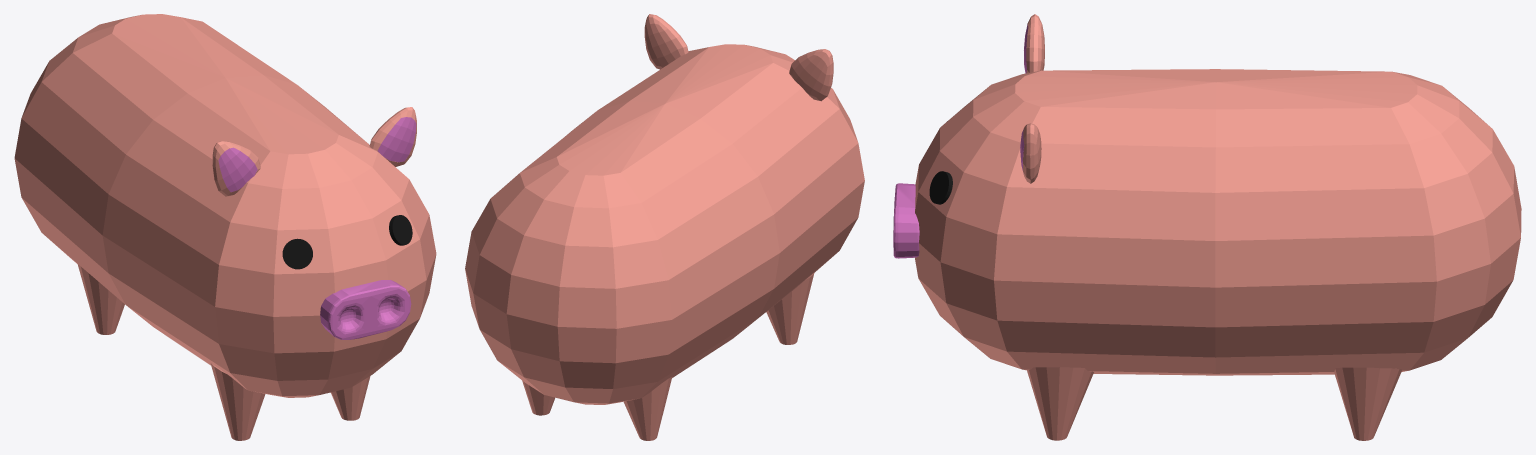
Rendered from Pig.glb.
3 renders of one model, left to right at view 1: azimuth 30°, elevation 25°; view 2: azimuth 150°, elevation 25°; view 3: azimuth 270°, elevation 25°, orthographic. The views are drawn at different scales.
Parts seen in each view (by area): view 1: Pig; view 2: Pig; view 3: Pig.
Part boxes in pixels (x1=…): Pig: x1=14, y1=14, x2=436, y2=440; Pig: x1=465, y1=14, x2=864, y2=440; Pig: x1=893, y1=14, x2=1521, y2=440.
Bounding box in the file's own units: 0.6514 × 0.8058 × 1.32.
